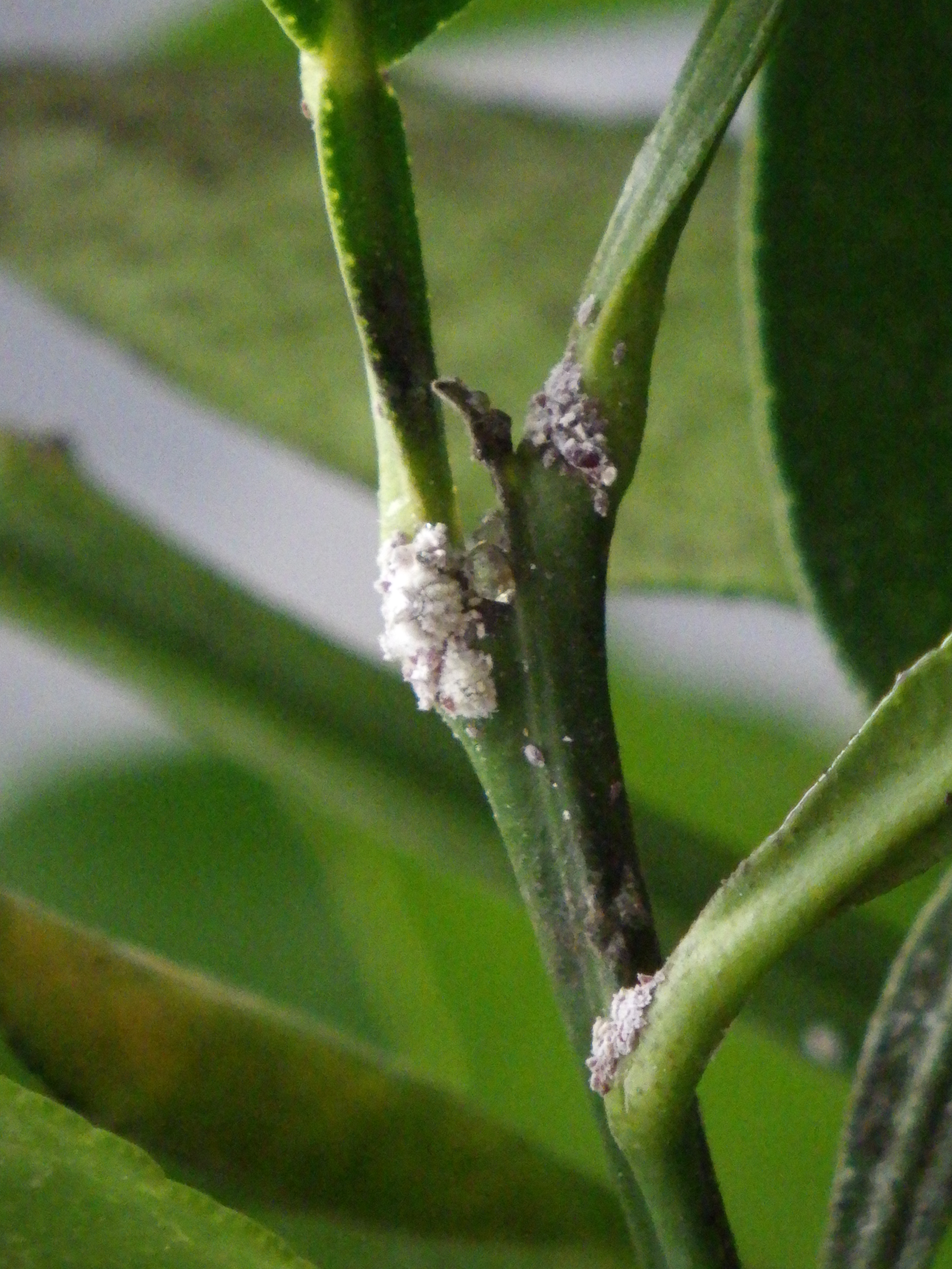Scale_Insect: (376, 523, 496, 718)
